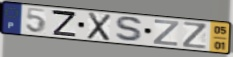5: (25, 7, 48, 35)
S: (113, 15, 145, 43)
X: (86, 11, 113, 43)
Z: (152, 19, 180, 48), (51, 9, 78, 38), (182, 21, 208, 51)
